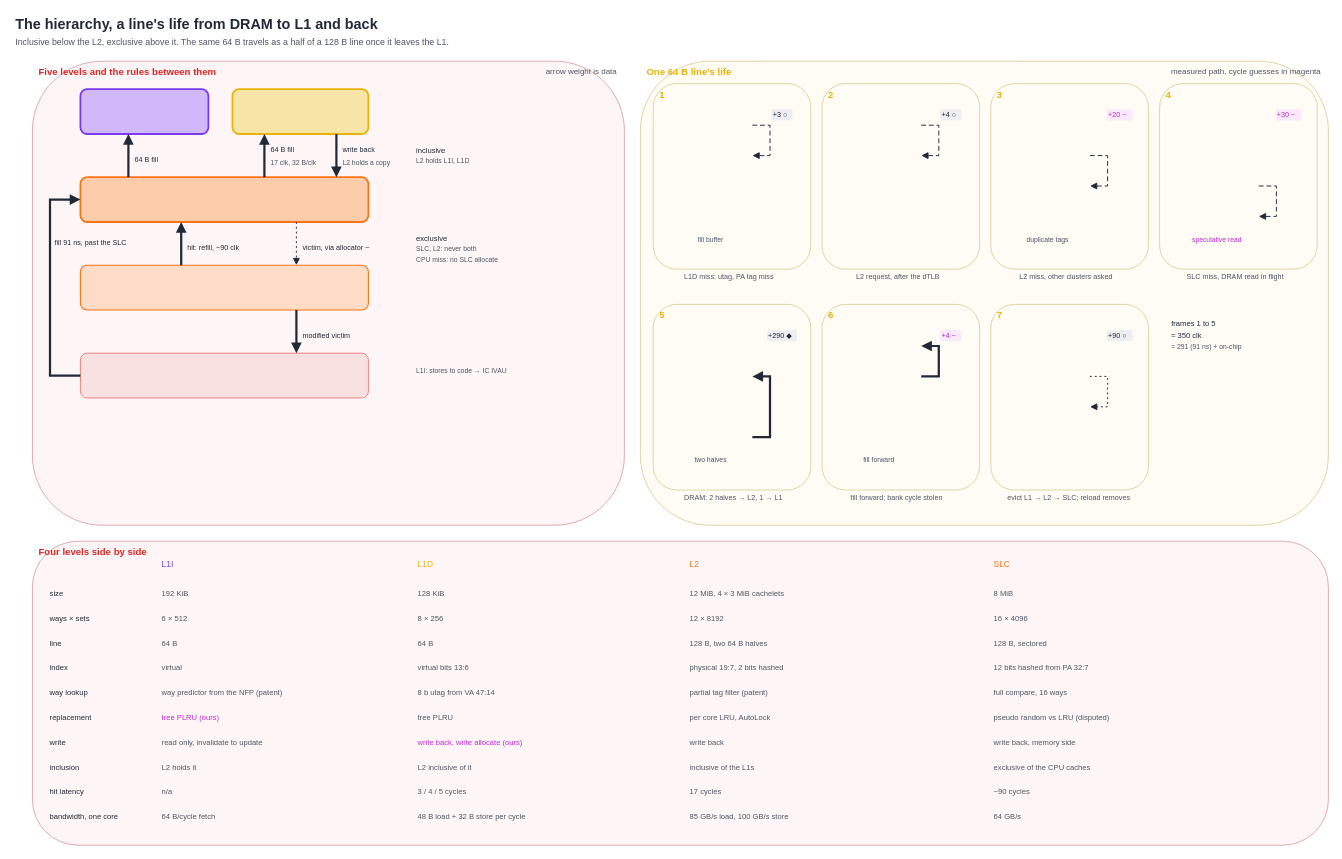
Some shapes in this 1342 by 859 pixel diagram are drawn without their labels. The centre of each missing label's shape, as x and y in pixels:
DRAM 8 or 16 GiB LPDDR4X, 8 channels: [224,375]
L1D 128 KiB VIPT, utag way, tree PLRU: [300,111]
L1I 192 KiB invalidate only, no snoop: [144,111]
L2 12 MiB PIPT, hashed, inclusive of the L1s: [224,199]
SLC 8 MiB memory side, exclusive, victim fill: [224,287]
